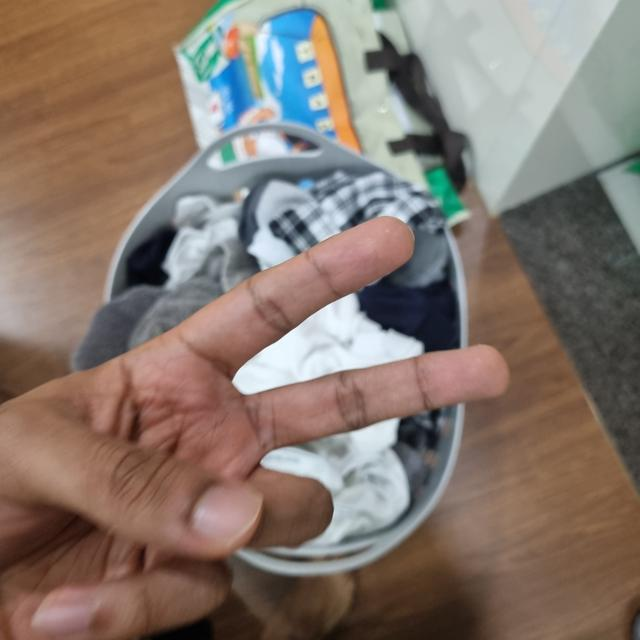Scissors: (0, 224, 504, 639)
